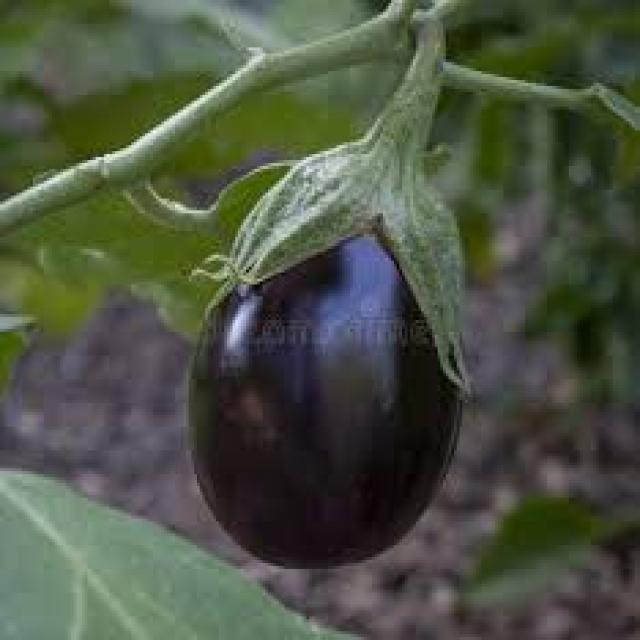Eggplant: (188, 51, 470, 572)
